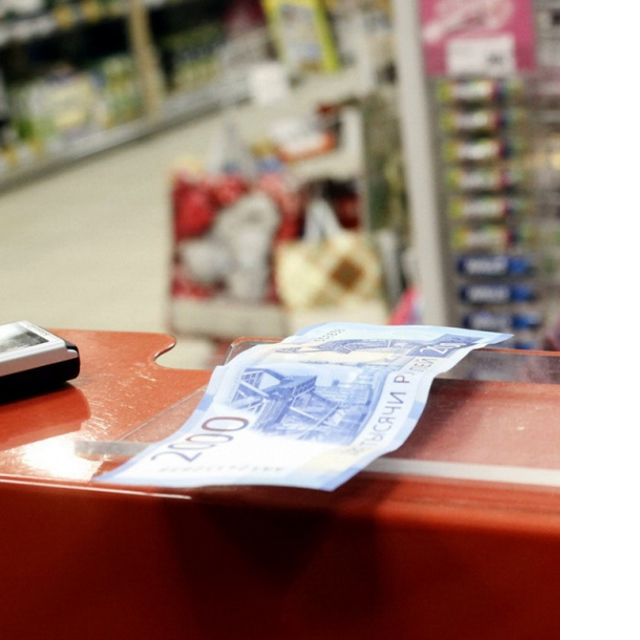banknotes: (93, 321, 512, 492)
